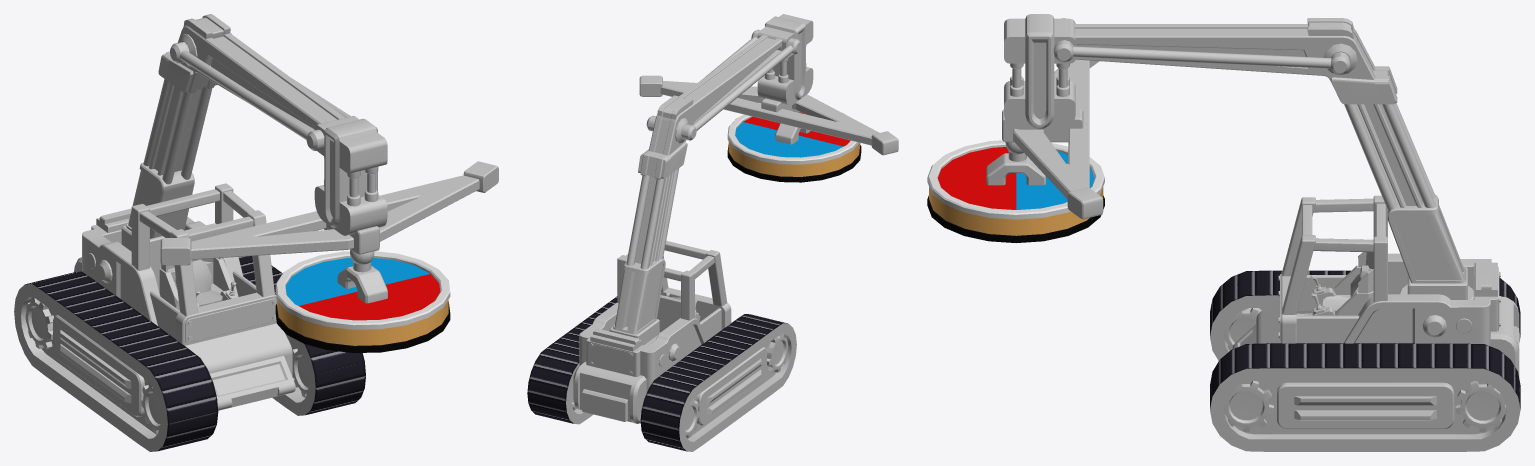
File: veh_5.fbx
3 views of the same model, side by side, from view 1: azimuth 30°, elevation 25°; view 2: azimuth 150°, elevation 25°; view 3: azimuth 270°, elevation 25° (orthographic). The views are drawn at different scales.
Visible parts, largest first — view 1: crane, body_lvl6, chain, pCylinder32, pasted__pCube28, polySurface24, polySurface23, polySurface21; view 2: crane, chain, body_lvl6, pCylinder32, pasted__pCube28, polySurface23, polySurface24; view 3: crane, body_lvl6, chain, pCylinder32, pasted__pCube28, polySurface22, polySurface21, polySurface23.
Part boxes in pixels (bbox=[...]): crane: bbox=[121, 14, 498, 265]; body_lvl6: bbox=[74, 183, 295, 410]; chain: bbox=[14, 256, 365, 451]; pCylinder32: bbox=[275, 249, 450, 352]; pasted__pCube28: bbox=[41, 308, 297, 434]; polySurface24: bbox=[25, 297, 53, 349]; polySurface23: bbox=[141, 382, 160, 434]; polySurface21: bbox=[292, 347, 308, 397]; crane: bbox=[609, 14, 898, 345]; chain: bbox=[527, 296, 796, 451]; body_lvl6: bbox=[573, 241, 731, 423]; pCylinder32: bbox=[727, 110, 861, 182]; pasted__pCube28: bbox=[687, 341, 775, 438]; polySurface23: bbox=[766, 333, 788, 372]; polySurface24: bbox=[684, 398, 699, 438]; crane: bbox=[1002, 14, 1473, 299]; body_lvl6: bbox=[1232, 195, 1519, 377]; chain: bbox=[1210, 270, 1520, 451]; pCylinder32: bbox=[927, 140, 1104, 242]; pasted__pCube28: bbox=[1225, 308, 1505, 434]; polySurface22: bbox=[1455, 381, 1506, 431]; polySurface21: bbox=[1224, 381, 1273, 431]; polySurface23: bbox=[1224, 308, 1261, 350].
Size of the model in its own units: 608 by 647 by 915.
